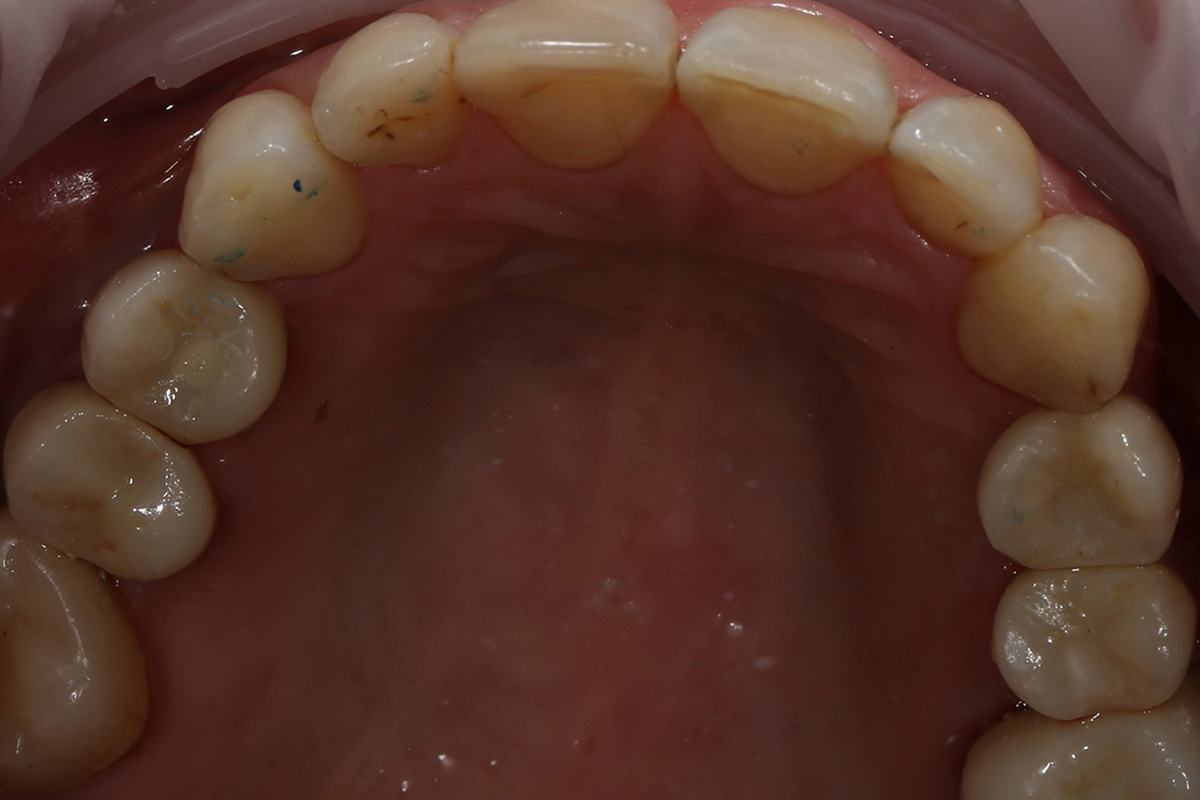UL1BC_healthy: (964, 395, 1179, 576)
UL1M_healthy: (951, 701, 1187, 791)
UL2BC_healthy: (989, 557, 1180, 724)
ULCI_decay: (674, 15, 886, 185)
ULC_decay: (949, 234, 1153, 412)
ULLI_decay: (880, 94, 1041, 257)
UR1BC_healthy: (79, 255, 290, 442)
UR1M_healthy: (1, 560, 152, 781)
UR2BC_healthy: (12, 404, 220, 584)
URCI_decay: (451, 2, 687, 172)
URC_decay: (182, 112, 358, 284)
URLI_decay: (313, 19, 455, 175)
